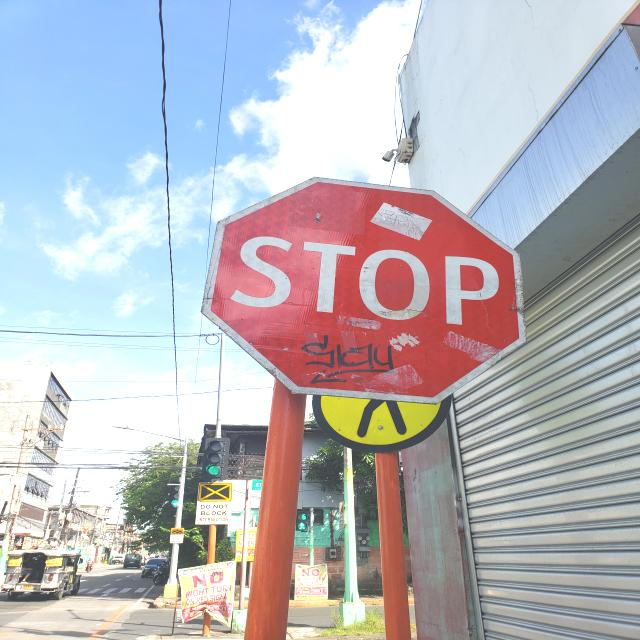stop-sign: (200, 175, 528, 405)
